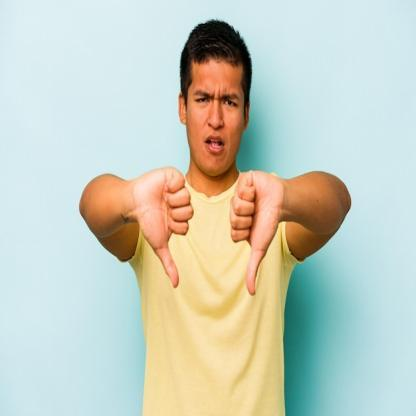thumb_down: (132, 161, 194, 292), (226, 166, 282, 296)
